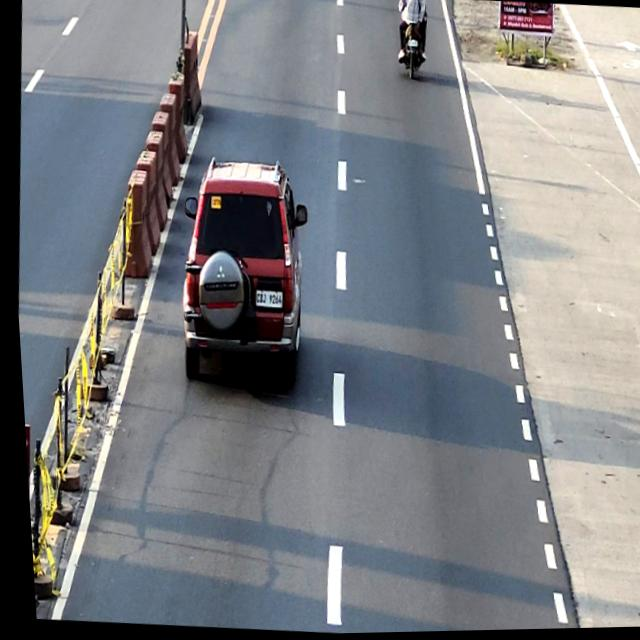Car: (166, 156, 316, 387)
License-Plate: (250, 290, 279, 308), (407, 40, 417, 49)
Motorcycle: (396, 0, 429, 79)
